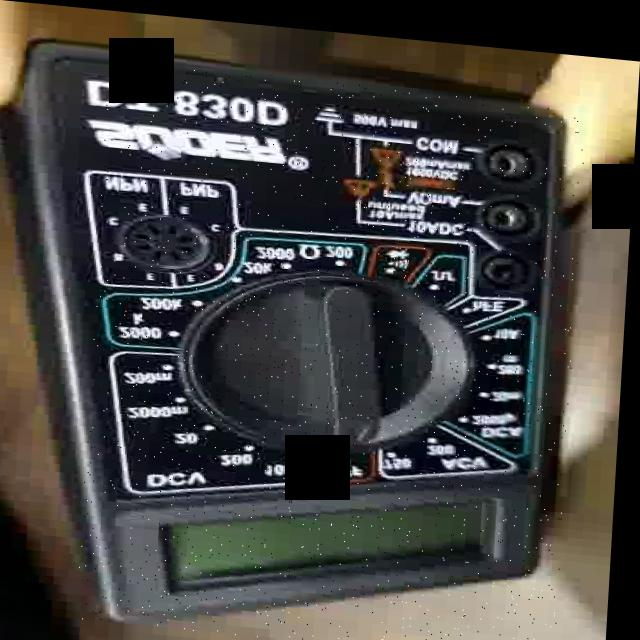multimeter: (84, 58, 588, 640)
